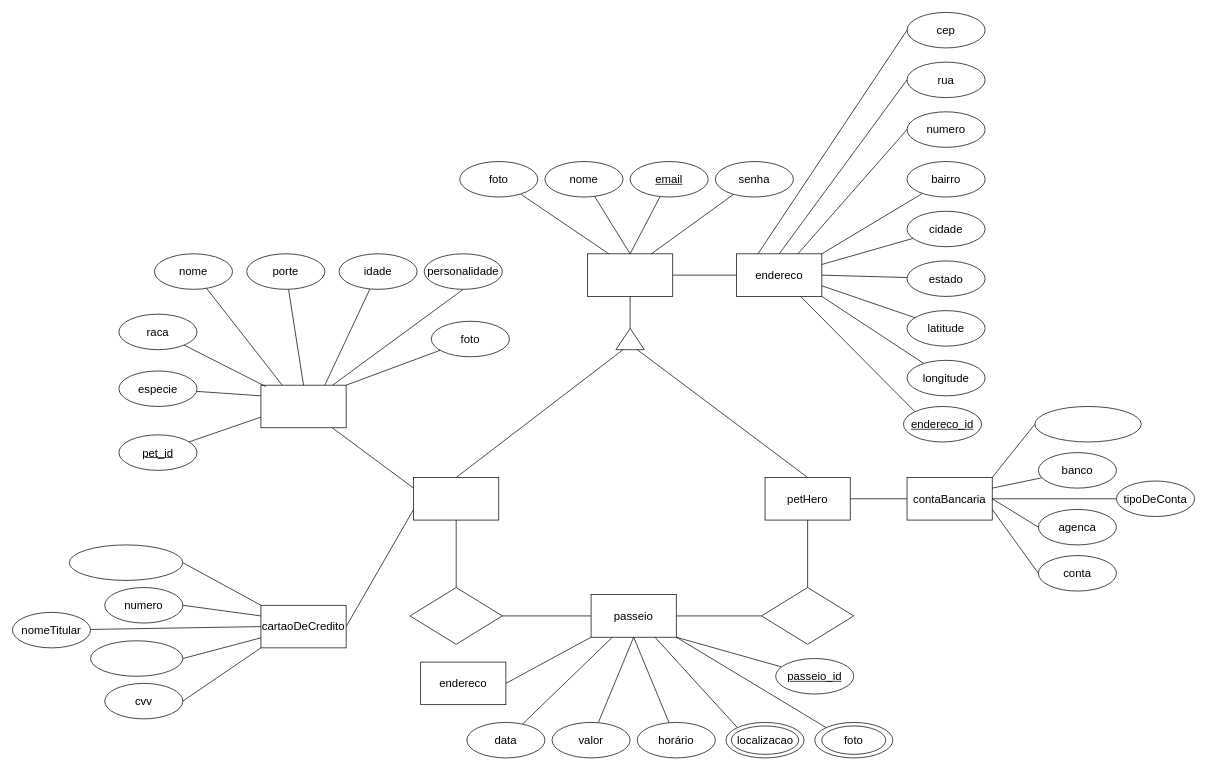
Image size: 1207x770. Some labels were removed from this diagram. The centre of each missing label's shape, as x and y in pixels:
"cartaoDeCredito_id" goes at (126,562).
"contaBancaria_id" goes at (1087,424).
"cria" goes at (455,615).
"dataVencimento" goes at (136,658).
"donoDePet" goes at (456,498).
"faz" goes at (807,615).
"pet" goes at (303,406).
"usuario" goes at (630,274).
